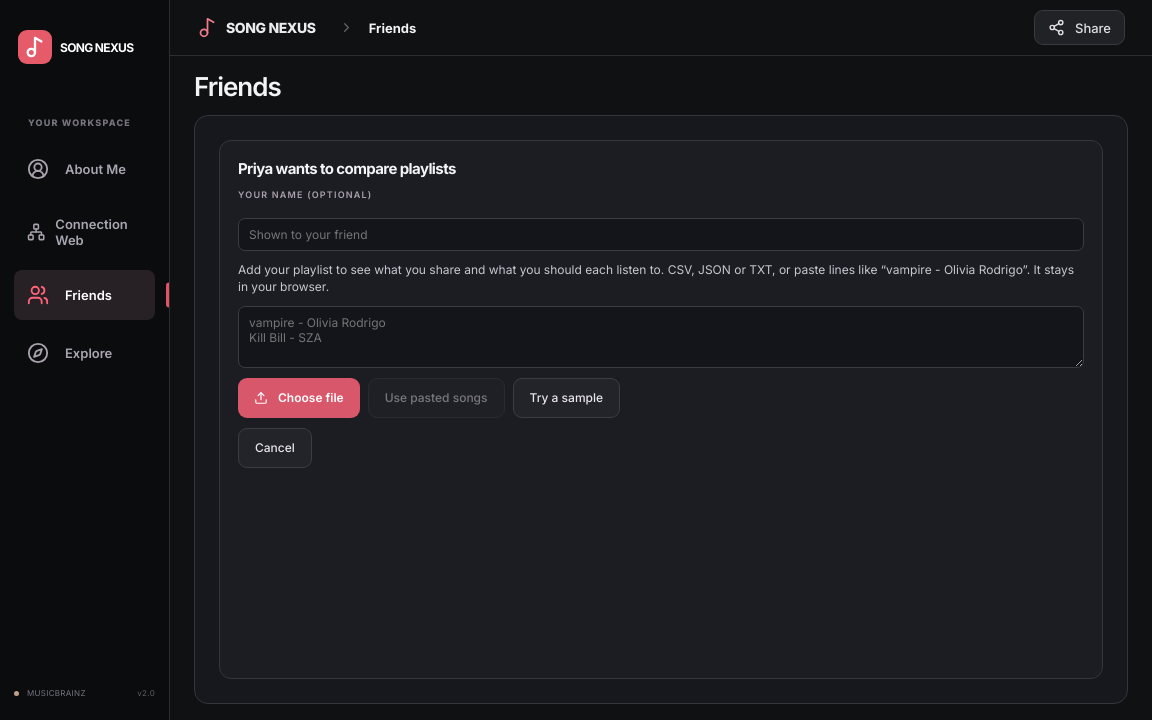
Friends › lets a friend join from a link, then upload, and shows it from their side
The width and height of the screenshot is (1152, 720).
Check: the heading "Priya wants to compare playlists" is shown, box [238, 159, 456, 178]
What coordinates should you click on to do the following:
click the button "Try a sample"
I would click on:
 (566, 398)
Its box is [512, 378, 620, 418].
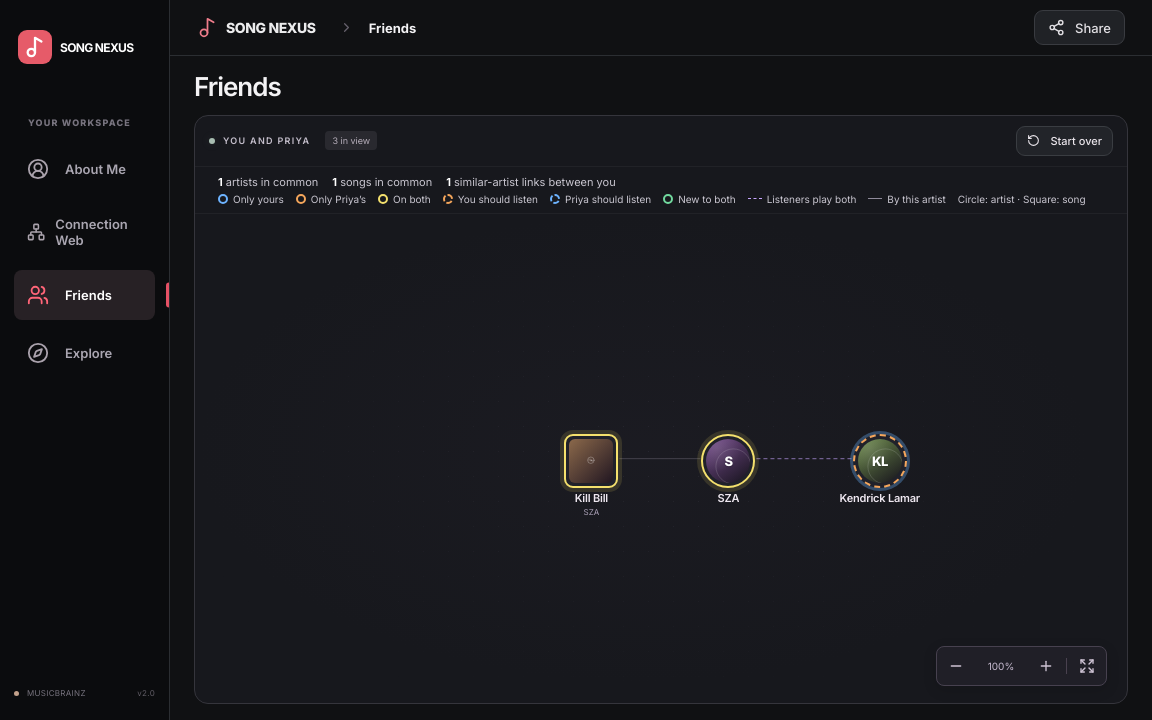
Check: the element with class "web-live-label" shows "YOU AND PRIYA", box [223, 135, 310, 146]
